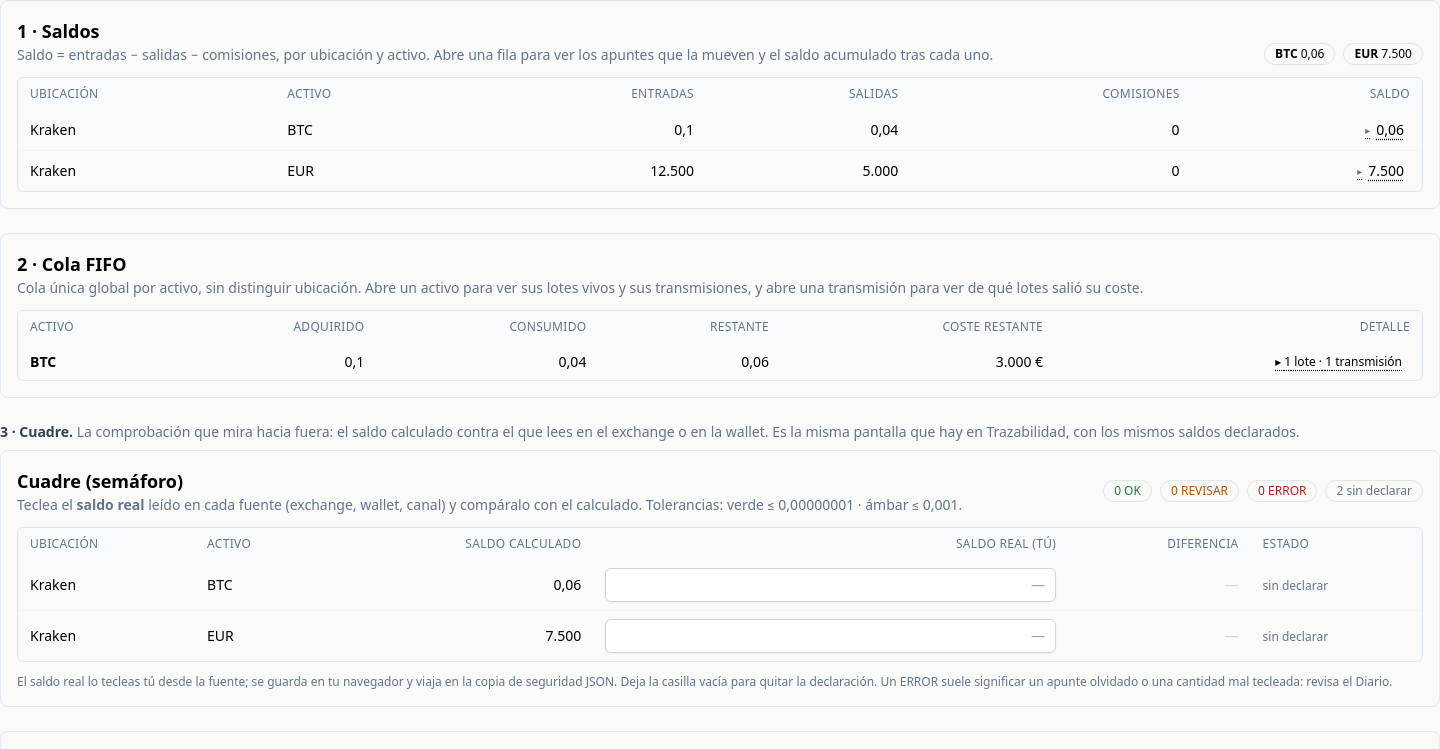
Scenario: Panel · pinchar una cifra y ver los apuntes que la componen › una transmisión despliega los lotes concretos que consumió (el FIFO, visible)
This screenshot has width=1440, height=749.
Click the button with aria-label "Ver la cola FIFO de BTC" at (1339, 362), box [1267, 352, 1410, 372]
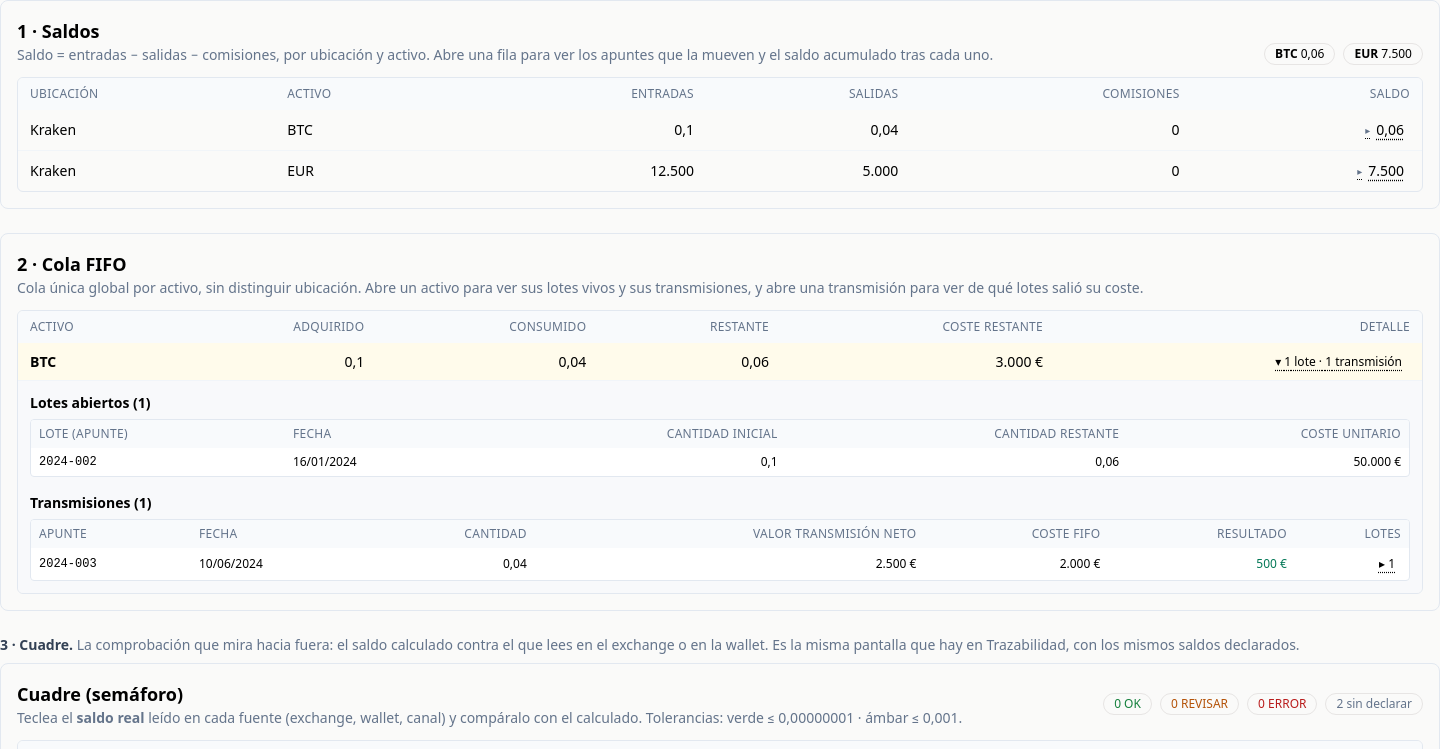
Click the button named "Ver los lotes consumidos por el apunte 2024-003" at (1387, 564), box [1373, 554, 1401, 574]
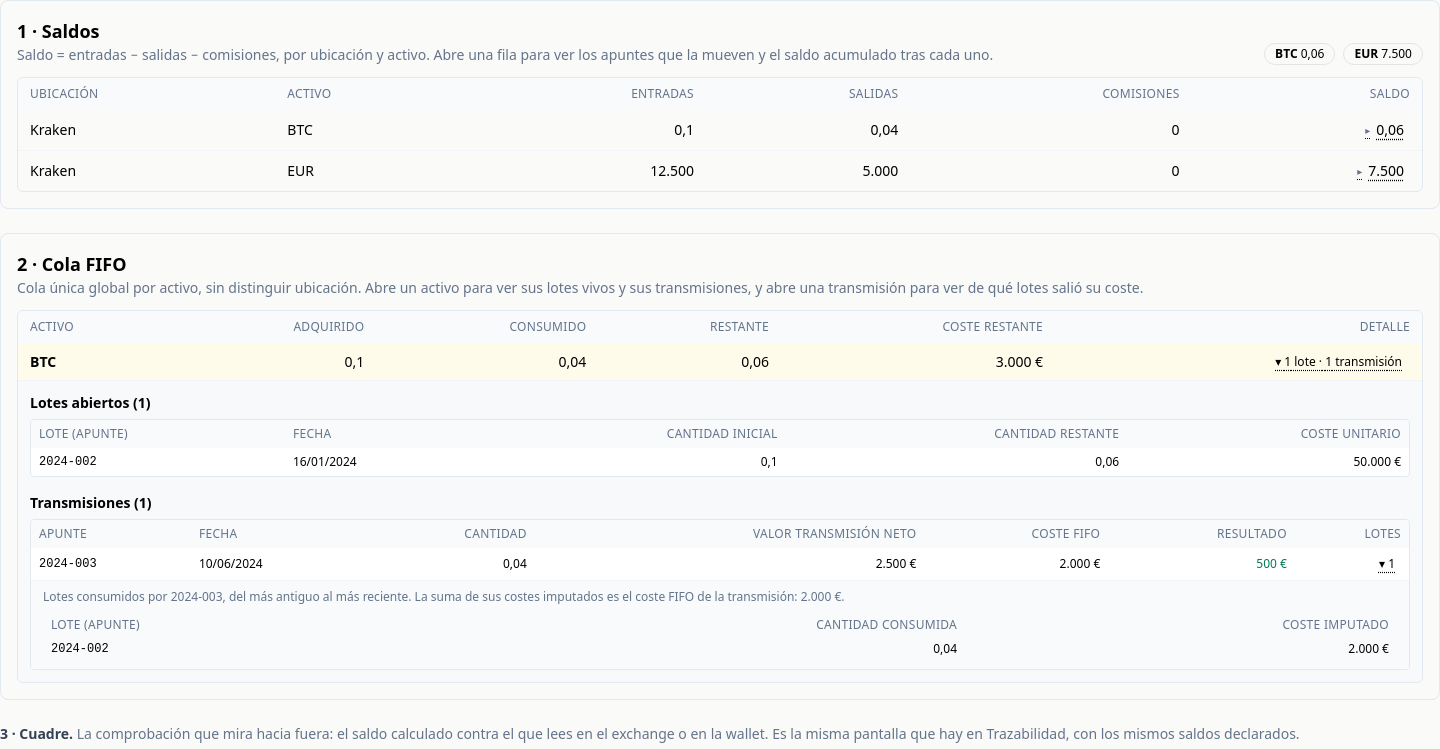
Check: the text "2024-002" below "Lotes consumidos por" is shown, box [51, 642, 109, 656]
Check: the table named "Lotes consumidos por el apunte 2024-003" shows "0,04", box [933, 640, 957, 657]
Check: the text "2.000 €" below "Cantidad consumida" is shown, box [1348, 640, 1389, 657]
